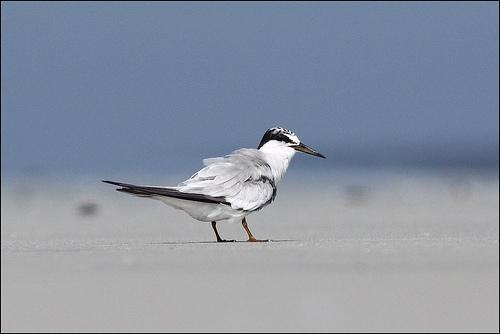bird: (100, 126, 326, 245)
